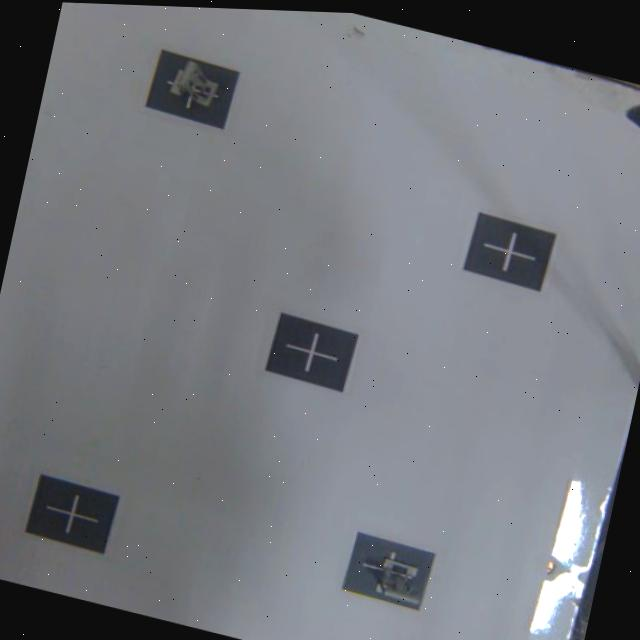pick5: (142, 43, 236, 130)
